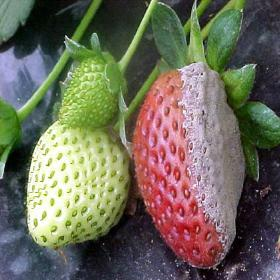Gray Mold: (170, 61, 246, 270)
